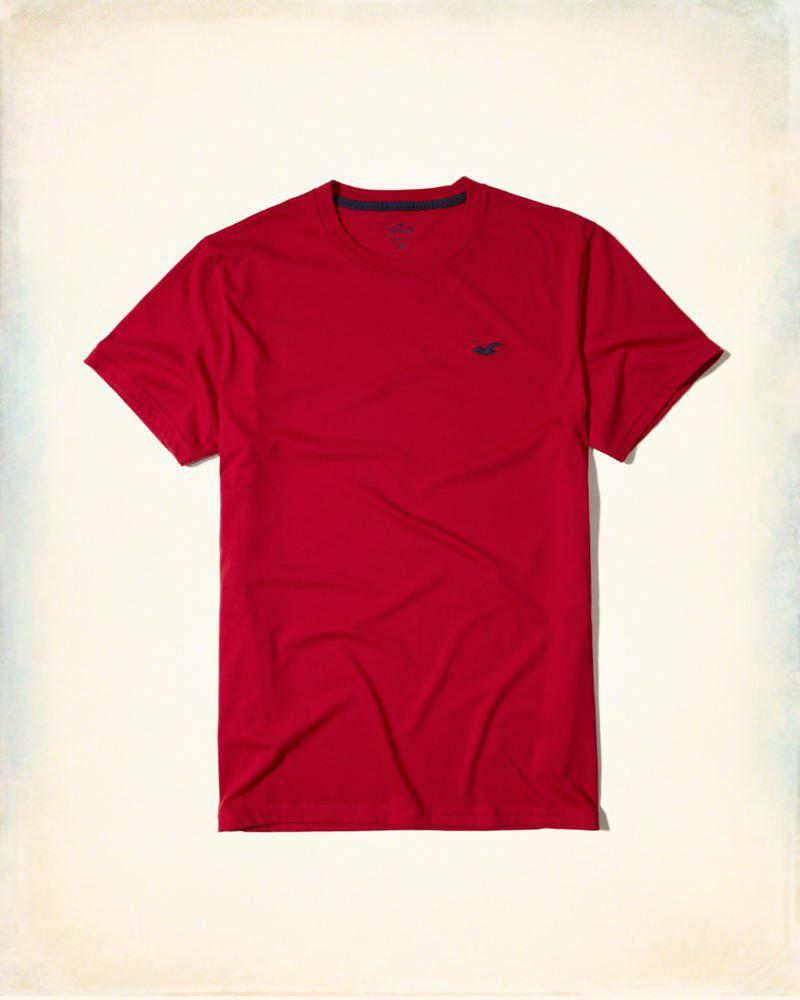teeshirt: (42, 183, 765, 906)
